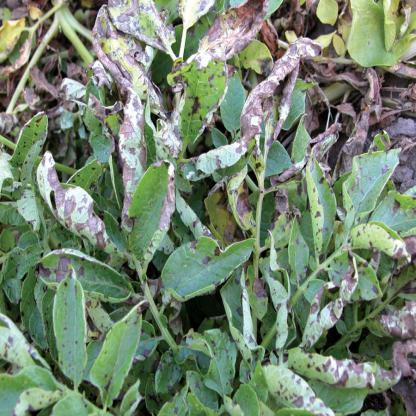Potato leaf early blight: (33, 150, 128, 261), (238, 31, 324, 150), (92, 298, 152, 414), (124, 158, 176, 276), (283, 344, 403, 395), (301, 249, 361, 349), (188, 1, 274, 70), (108, 1, 179, 65), (337, 67, 381, 168), (273, 121, 344, 183), (53, 265, 89, 385), (261, 361, 330, 415), (364, 305, 416, 341)
